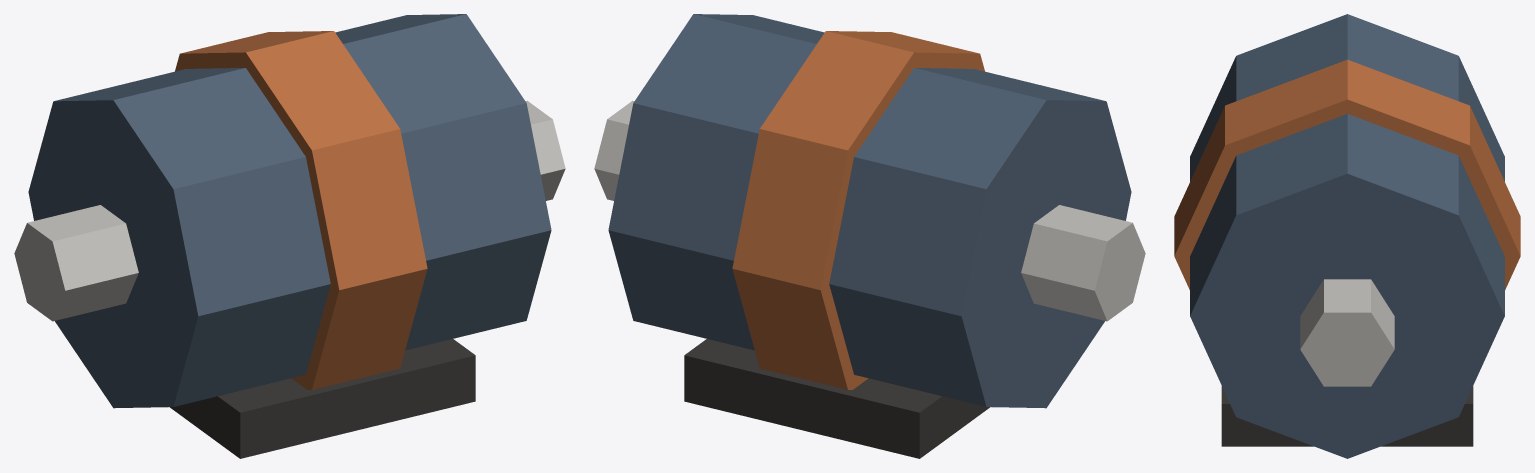
The model's file is motor.fbx.
3 views of the same model, side by side, from view 1: azimuth 30°, elevation 25°; view 2: azimuth 150°, elevation 25°; view 3: azimuth 270°, elevation 25° (orthographic). The views are drawn at different scales.
Parts seen in each view (by area): view 1: motor; view 2: motor; view 3: motor.
Part boxes in pixels (box(x1,y1,x2,y2)): motor: box(14, 14, 565, 458); motor: box(594, 14, 1145, 458); motor: box(1174, 14, 1520, 458).
Size of the model in its own units: 1.02 by 0.66 by 0.66.
